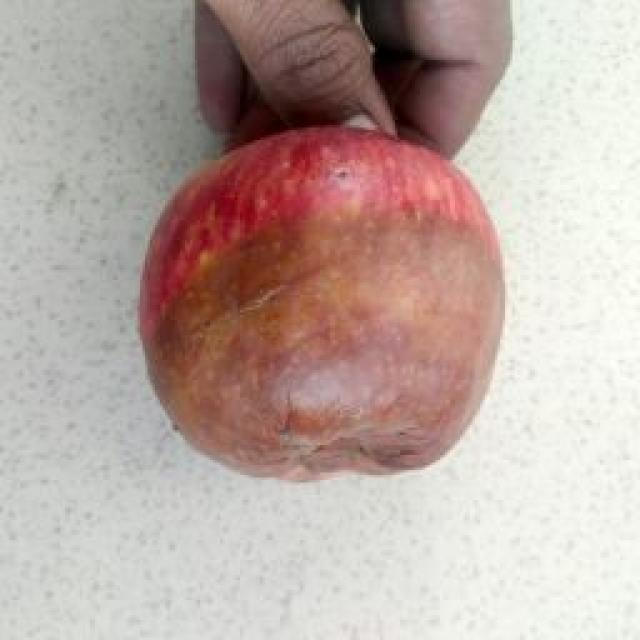Bad_Apple: (140, 126, 504, 478)
